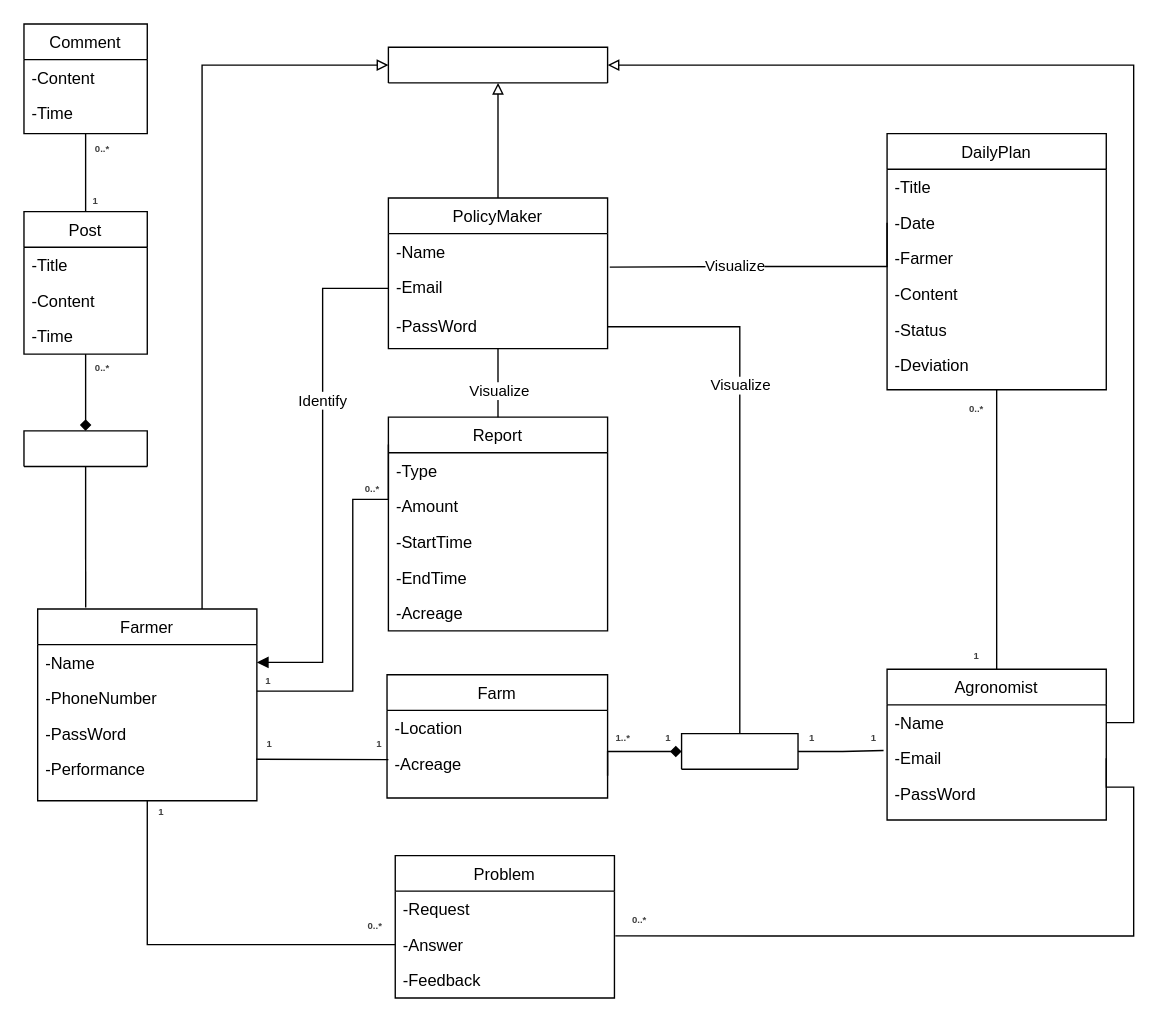
This 1169x1026 diagram has some shape labels left out. The shapes that lost their labels are listed below. From the top down, each one's centre as x and y in pixels, then its label:
At pixel 497 64: "User".
At pixel 85 447: "Forum".
At pixel 739 750: "Area".
